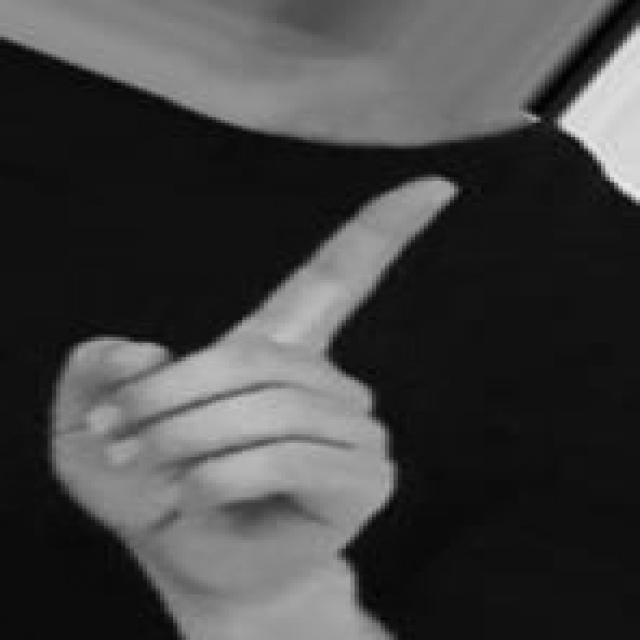I: (38, 174, 461, 614)
